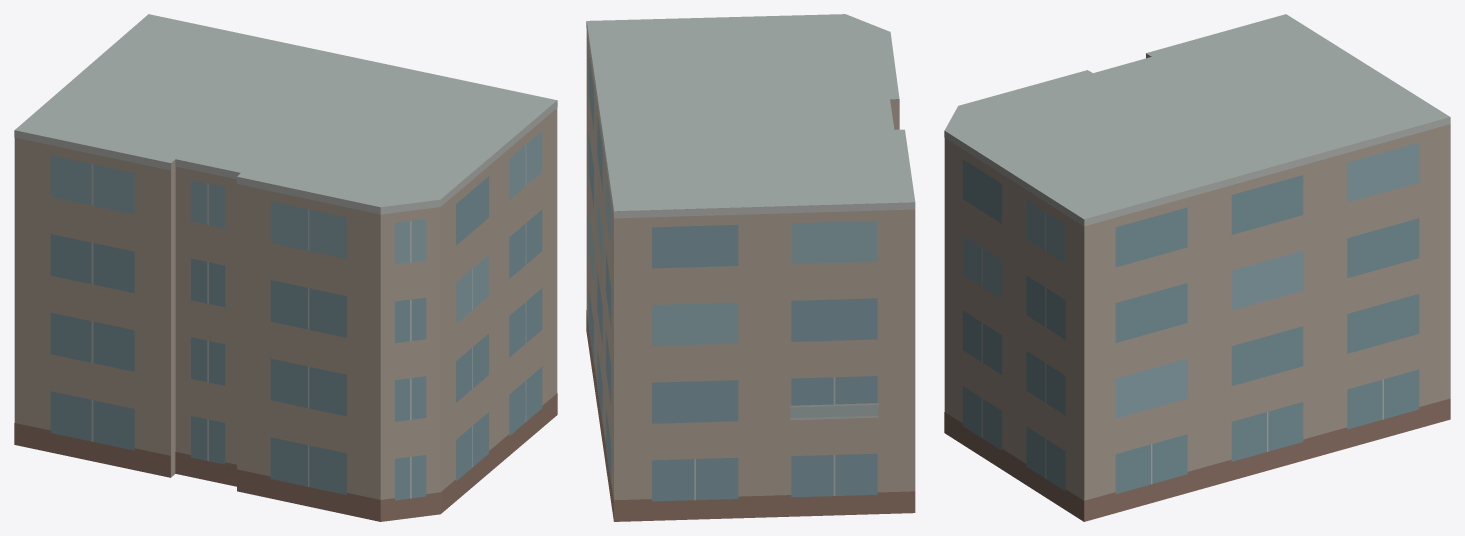
Rendered from survey-upis-32925463.glb.
The picture shows the model from 3 angles, left to right: view 1: azimuth 30°, elevation 25°; view 2: azimuth 150°, elevation 25°; view 3: azimuth 270°, elevation 25°; orthographic projection. The views are drawn at different scales.
Visible parts, largest first — view 1: survey-upis-32925463.tmp; view 2: survey-upis-32925463.tmp; view 3: survey-upis-32925463.tmp.
Boxes of the visible parts, left/top/right/bottom form: survey-upis-32925463.tmp: left=14, top=14, right=557, bottom=521; survey-upis-32925463.tmp: left=586, top=14, right=915, bottom=521; survey-upis-32925463.tmp: left=944, top=14, right=1450, bottom=521.
Size of the model in its own units: 15.31 by 10.5 by 15.93.
